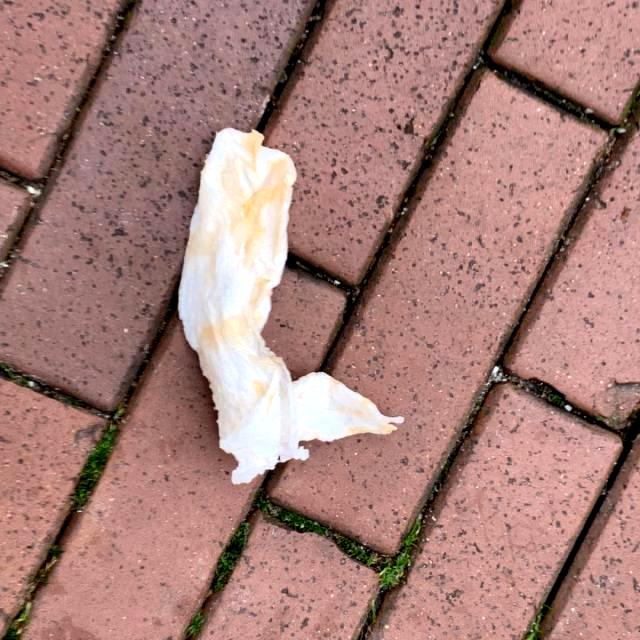Paper: (176, 126, 408, 487)
